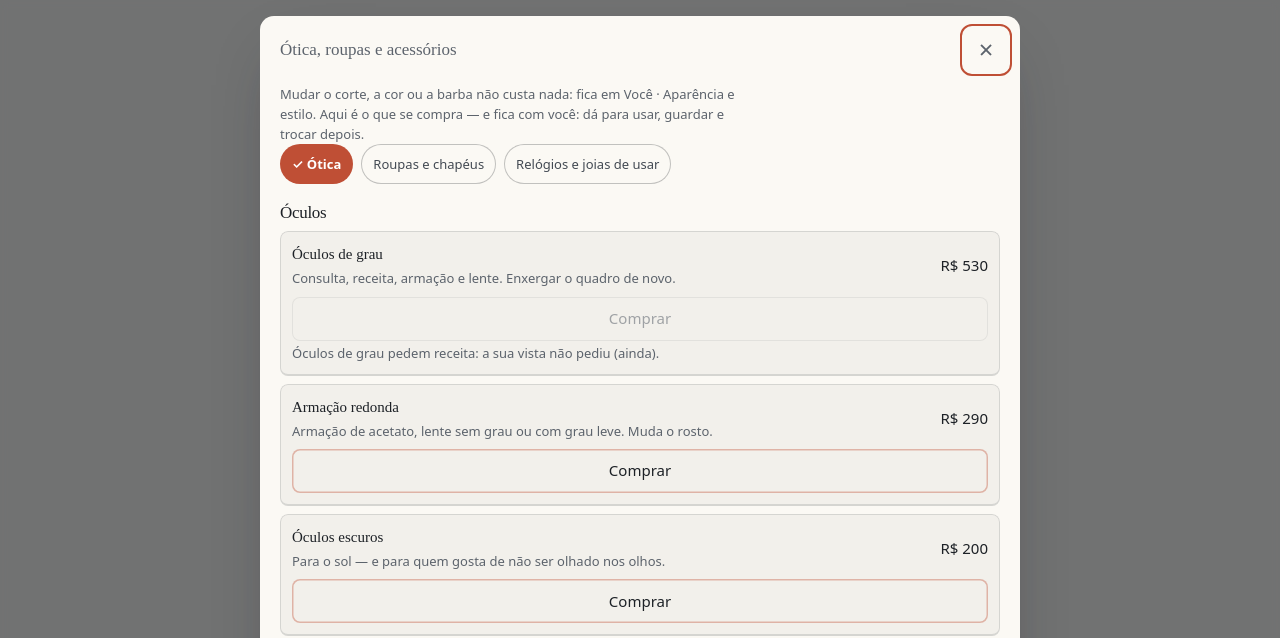
Vida: moradia, dinheiro, compras, tempo, cidade — num lugar só › a ótica vende o que se usa no corpo; o luxo não promete fama
This screenshot has width=1280, height=638.
Expected: the text "Óculos escuros" is shown, top-left (292, 529), bottom-right (383, 545)
Os balcões: a ótica, as roupas, a relojoaria e a joalheria (não uma prateleira só).
What coordinates should you click on to do the following:
click the radio button labelled "Relógios e joias de usar"
I would click on:
 (588, 164)
Its box is top-left (504, 144), bottom-right (671, 184).
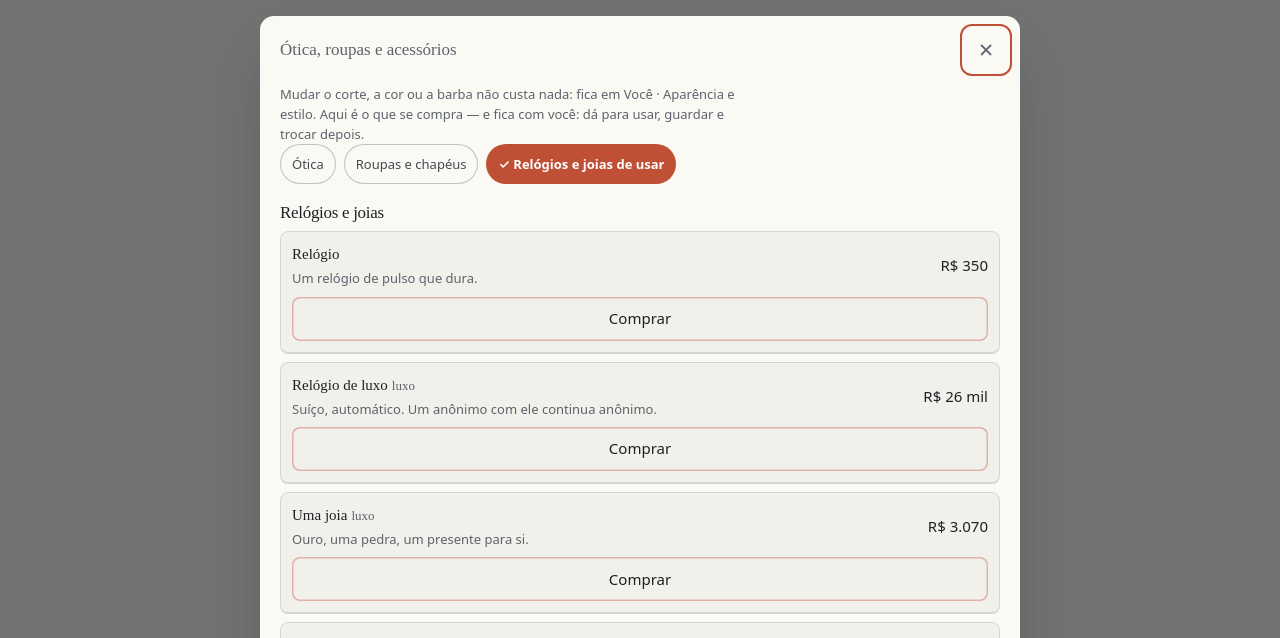
Now the text "Suíço, automático. Um anônimo com ele continua anônimo." is shown, box top-left (292, 400), bottom-right (657, 418)
